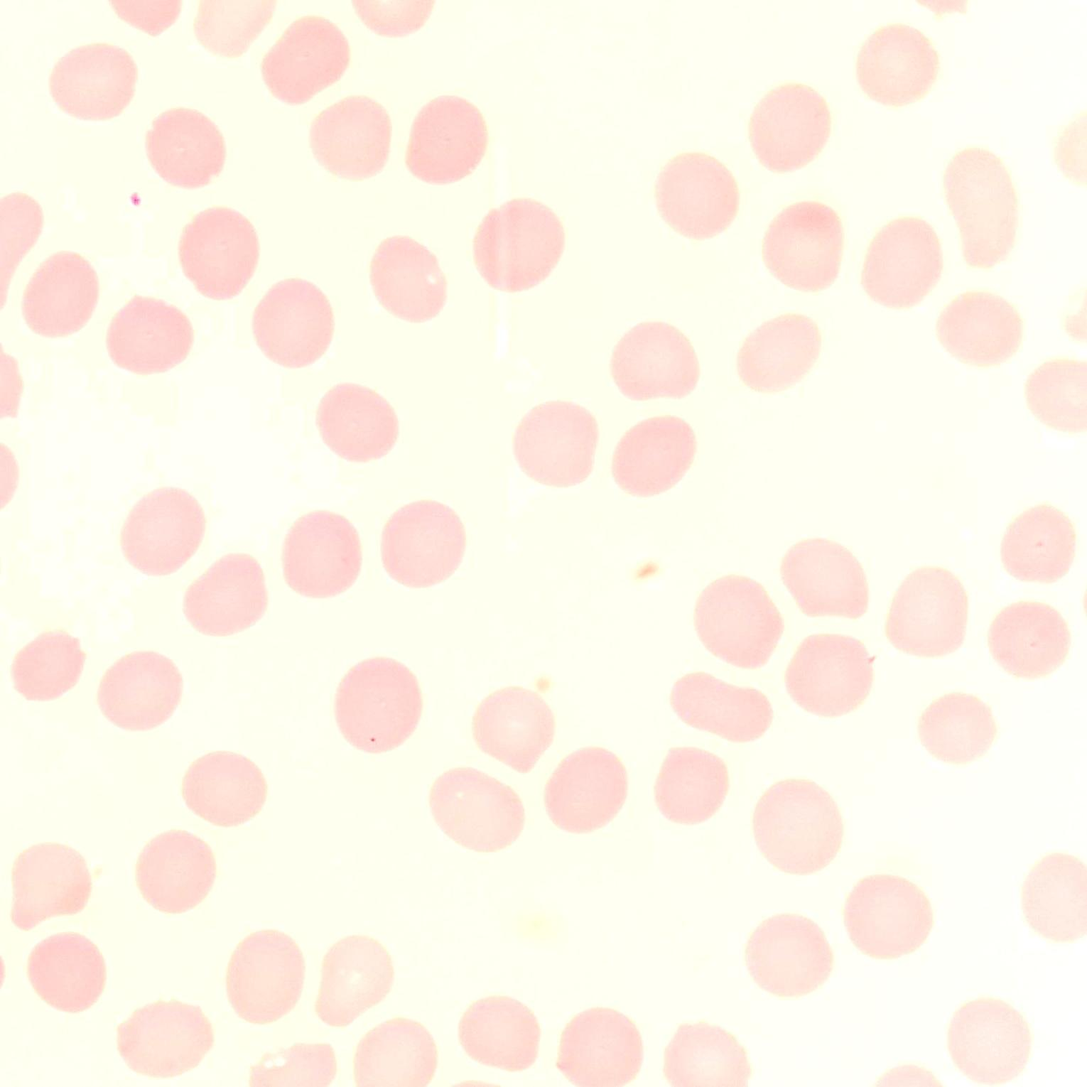Uninfected: (943, 146, 1020, 266), (751, 779, 843, 874), (334, 657, 423, 753), (693, 575, 783, 668), (475, 198, 564, 291), (428, 767, 523, 853), (512, 399, 602, 489), (261, 16, 351, 104), (223, 929, 306, 1024), (120, 486, 207, 576), (784, 632, 875, 717), (885, 566, 970, 657), (779, 536, 869, 620), (9, 840, 92, 931), (177, 206, 259, 298), (115, 1000, 211, 1078), (761, 201, 845, 289), (843, 874, 931, 958), (405, 94, 488, 183), (609, 413, 699, 495), (315, 934, 395, 1026), (670, 671, 769, 745), (252, 279, 335, 367), (748, 83, 831, 171), (744, 913, 833, 995), (308, 95, 393, 180), (381, 500, 465, 586), (282, 510, 364, 598), (107, 294, 196, 375), (543, 747, 626, 833), (472, 686, 555, 772), (611, 318, 698, 400), (946, 997, 1028, 1084), (862, 217, 943, 305), (183, 554, 268, 637), (369, 235, 450, 322), (21, 249, 100, 338), (656, 153, 739, 237), (134, 831, 217, 915), (555, 1007, 642, 1087), (856, 23, 939, 105), (98, 651, 183, 731), (49, 42, 136, 120), (146, 107, 227, 189), (25, 931, 107, 1012), (736, 314, 821, 392), (987, 600, 1069, 680), (316, 381, 399, 460), (181, 750, 266, 827), (935, 290, 1020, 367), (458, 995, 541, 1071), (999, 503, 1077, 583), (1018, 852, 1087, 942), (654, 746, 732, 825), (917, 692, 996, 764), (354, 1020, 436, 1087), (11, 629, 85, 702), (663, 1022, 746, 1087), (1024, 359, 1087, 431)
